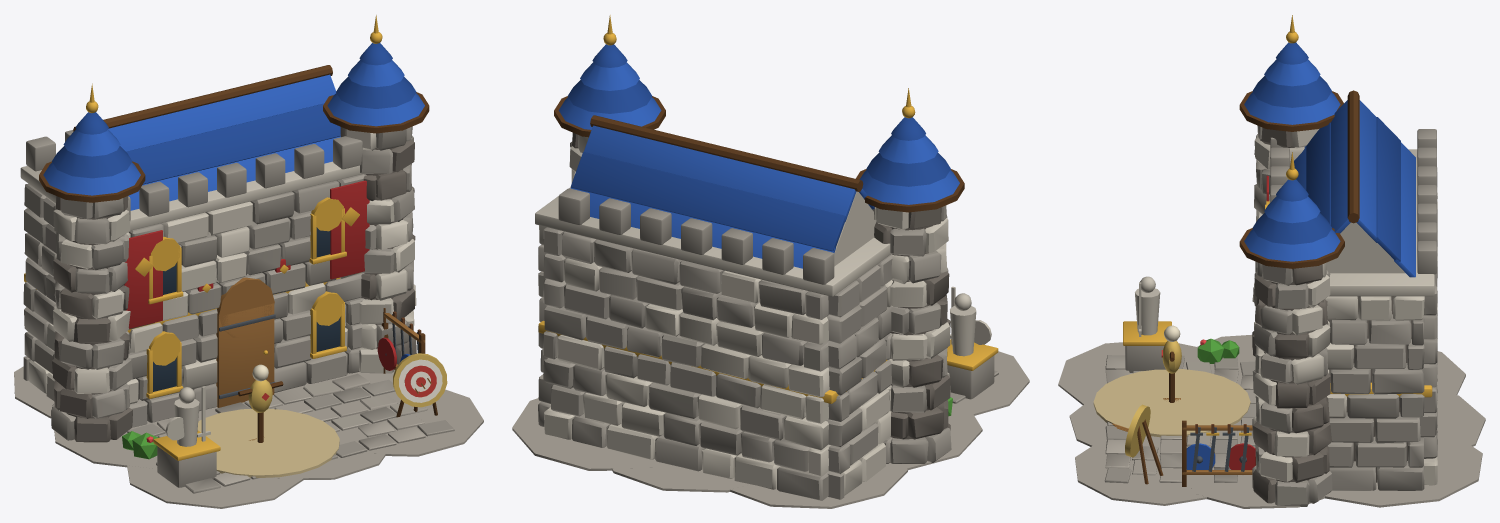
Rendered from koszary_poz18.glb.
The picture shows the model from 3 angles, left to right: view 1: azimuth 30°, elevation 25°; view 2: azimuth 150°, elevation 25°; view 3: azimuth 270°, elevation 25°; orthographic projection. The views are drawn at different scales.
Visible parts, largest first — view 1: koszary_poz18; view 2: koszary_poz18; view 3: koszary_poz18.
Part boxes in pixels (<box>): koszary_poz18: <box>14,15,483,508</box>; koszary_poz18: <box>512,15,1029,508</box>; koszary_poz18: <box>1058,15,1485,508</box>.
Size of the model in its own units: 8.74 by 7.8 by 8.71.
